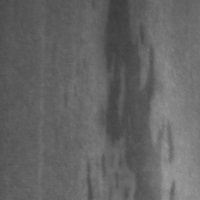inclusion: (99, 1, 178, 199), (81, 151, 98, 199)
